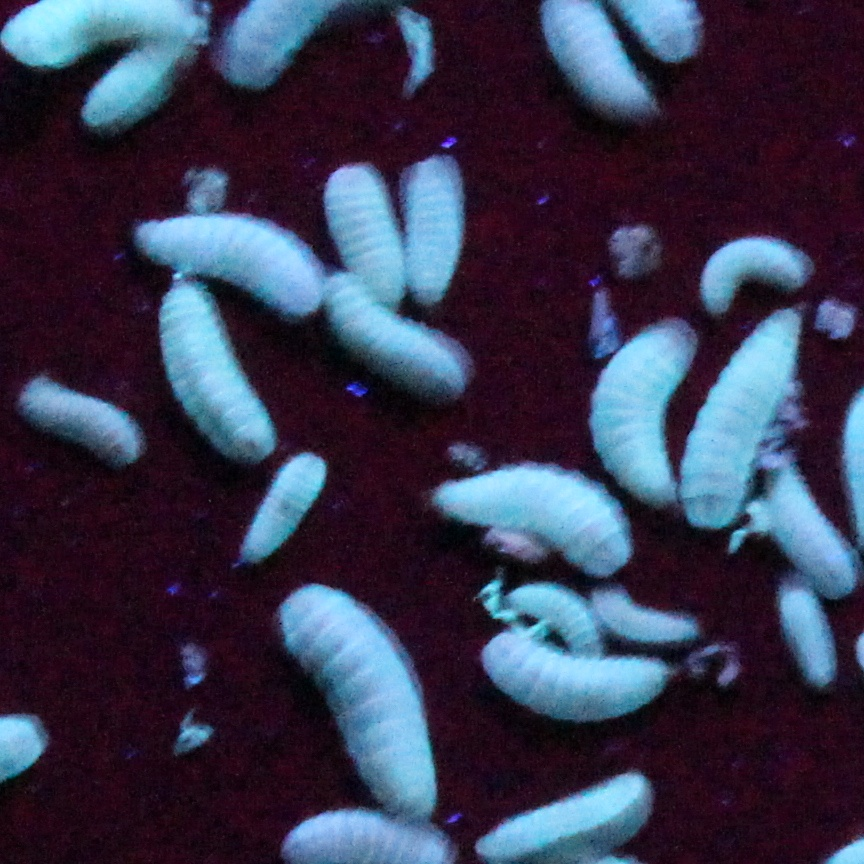larve: (270, 587, 439, 811), (692, 318, 798, 529), (153, 283, 278, 454), (433, 472, 628, 577), (131, 211, 315, 312), (486, 633, 667, 725), (479, 769, 654, 864), (333, 284, 462, 400), (593, 331, 678, 497), (21, 379, 143, 470), (323, 167, 405, 298), (243, 455, 327, 564), (769, 469, 846, 586), (84, 49, 190, 130), (695, 234, 811, 304), (407, 162, 459, 298), (772, 585, 836, 694), (596, 587, 697, 649)
